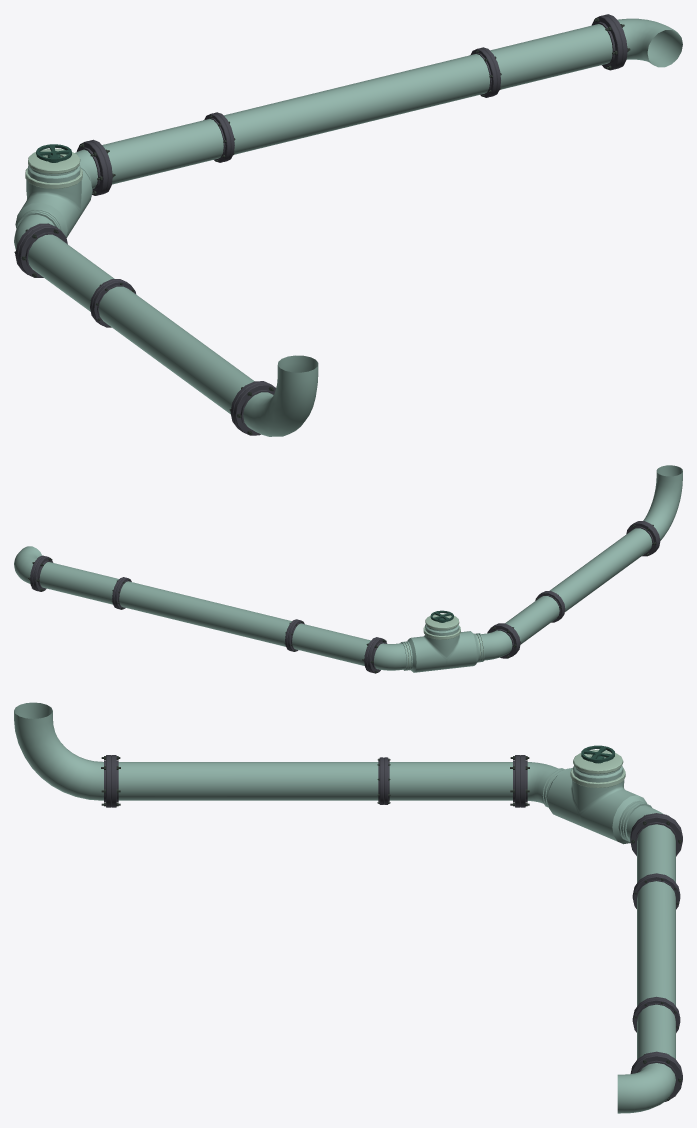
The model's file is PipeComplexLarge_A2_11.fbx.
The picture shows the model from 3 angles, top to bottom: view 1: azimuth 30°, elevation 25°; view 2: azimuth 150°, elevation 25°; view 3: azimuth 270°, elevation 25°; orthographic projection. The views are drawn at different scales.
Parts seen in each view (by area): view 1: PipeComplexLarge_A2_11.001; view 2: PipeComplexLarge_A2_11.001; view 3: PipeComplexLarge_A2_11.001.
Part boxes in pixels (x1,y1,x2,y2): PipeComplexLarge_A2_11.001: [14, 14, 682, 436]; PipeComplexLarge_A2_11.001: [14, 465, 682, 673]; PipeComplexLarge_A2_11.001: [14, 702, 682, 1113].
Bounding box in the file's own units: 4.04 × 0.5356 × 3.44.
